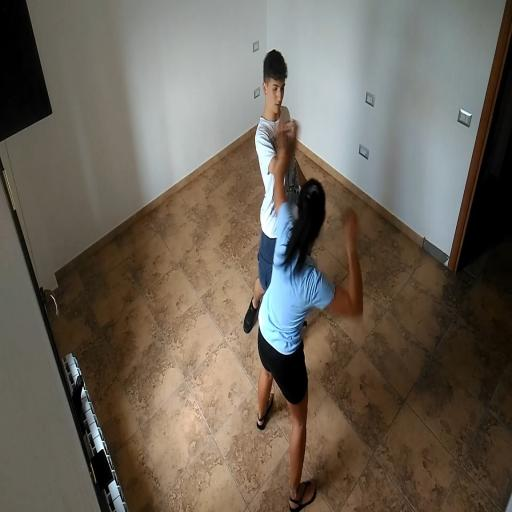violencia: (228, 38, 372, 512)
